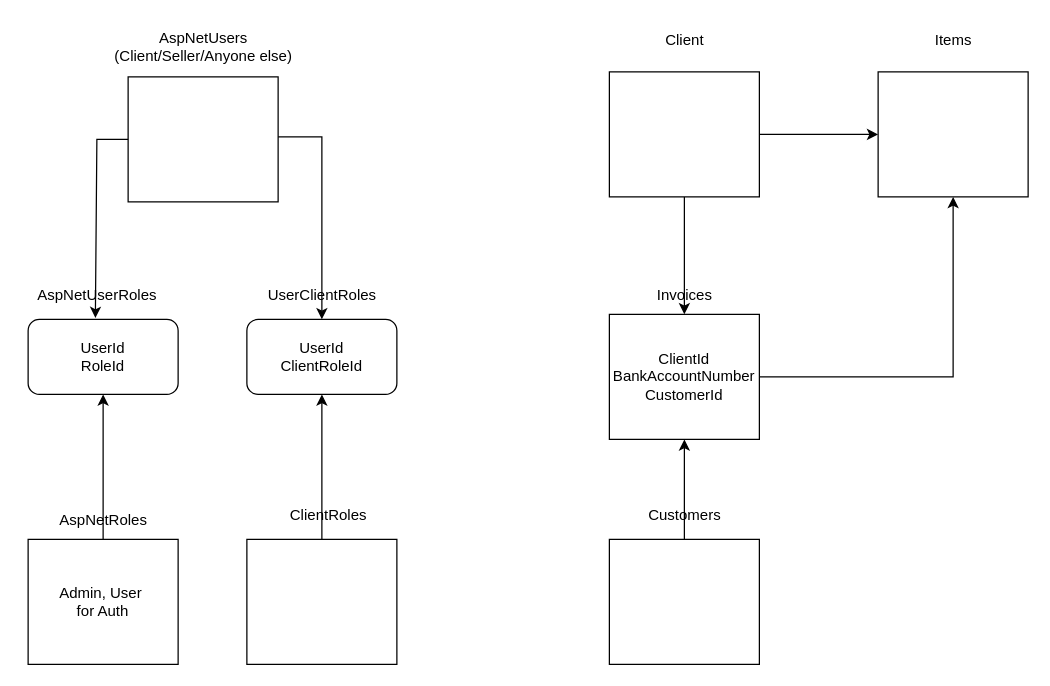
The diagram is 1050 pixels wide and 686 high, and some of its shapes have lost their labels. Each missing label, with the centre of its shape:
"ClientId" belongs at pixel 952 134.
"SuperAdmin, ClientAdmin, etc." belongs at pixel 321 601.
